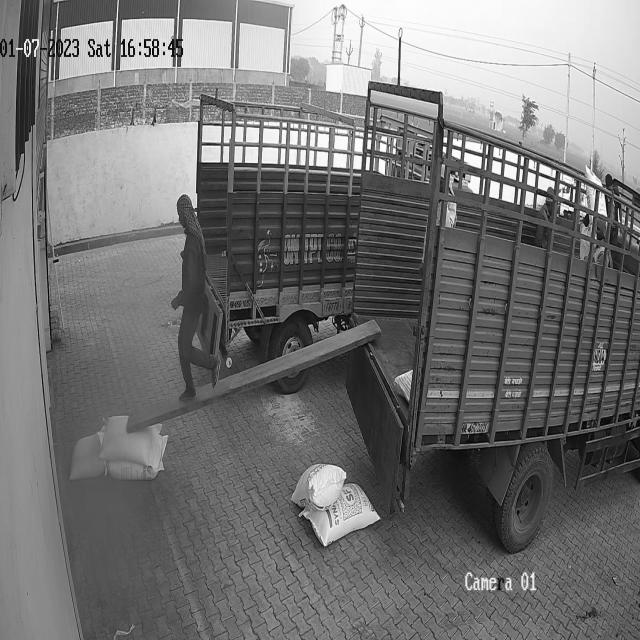sack: (299, 482, 380, 548), (99, 416, 162, 464), (105, 435, 169, 479), (291, 462, 346, 512), (69, 430, 107, 480)
